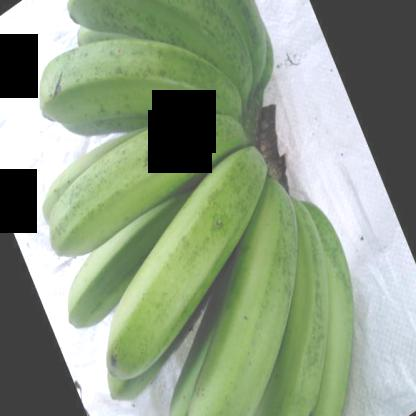unripe: (99, 149, 276, 374), (30, 107, 252, 238), (186, 185, 295, 415), (21, 41, 229, 111), (66, 0, 262, 73)
